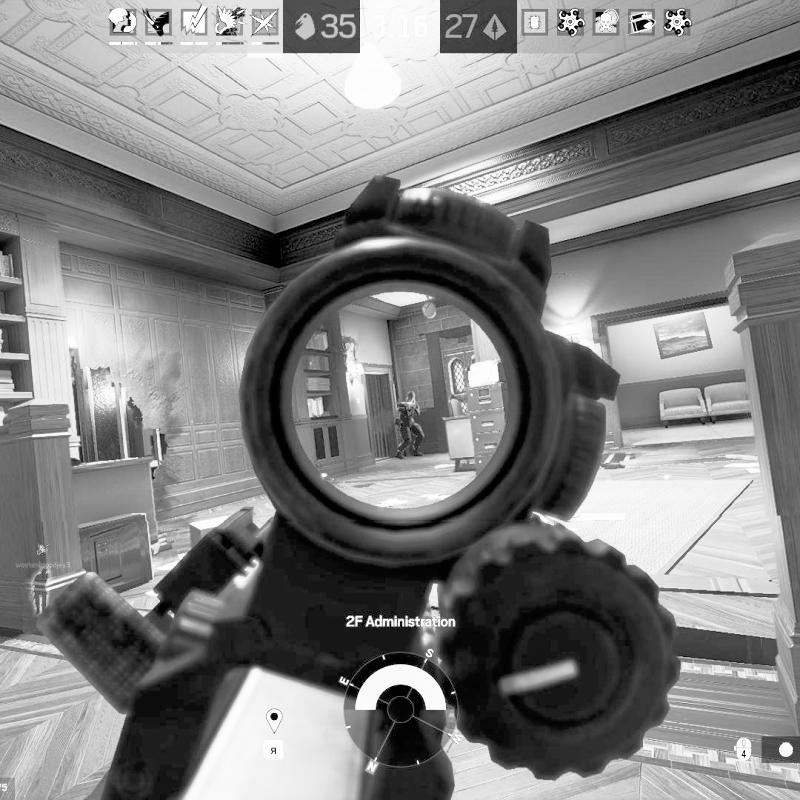Character: (392, 390, 428, 460)
Friend_label: (15, 541, 72, 570)
Head: (406, 390, 416, 404)
